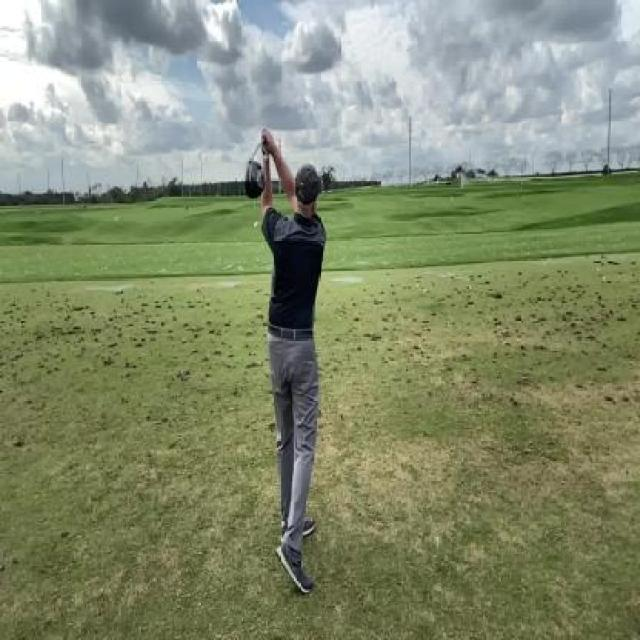club head: (244, 153, 267, 199)
